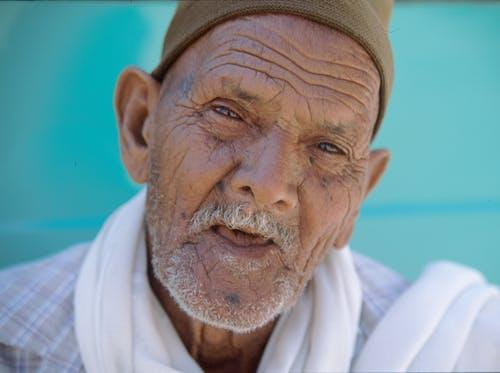Wrinkles: (232, 32, 374, 96), (225, 49, 368, 112), (277, 31, 378, 91), (206, 63, 306, 100), (296, 223, 333, 300), (167, 185, 177, 255), (172, 147, 189, 187), (340, 188, 352, 230), (336, 95, 357, 112), (168, 122, 196, 134), (213, 39, 239, 47), (209, 53, 232, 60), (308, 97, 313, 121), (176, 103, 196, 109), (175, 114, 194, 120), (202, 264, 208, 276), (194, 247, 199, 259), (184, 241, 197, 245)
